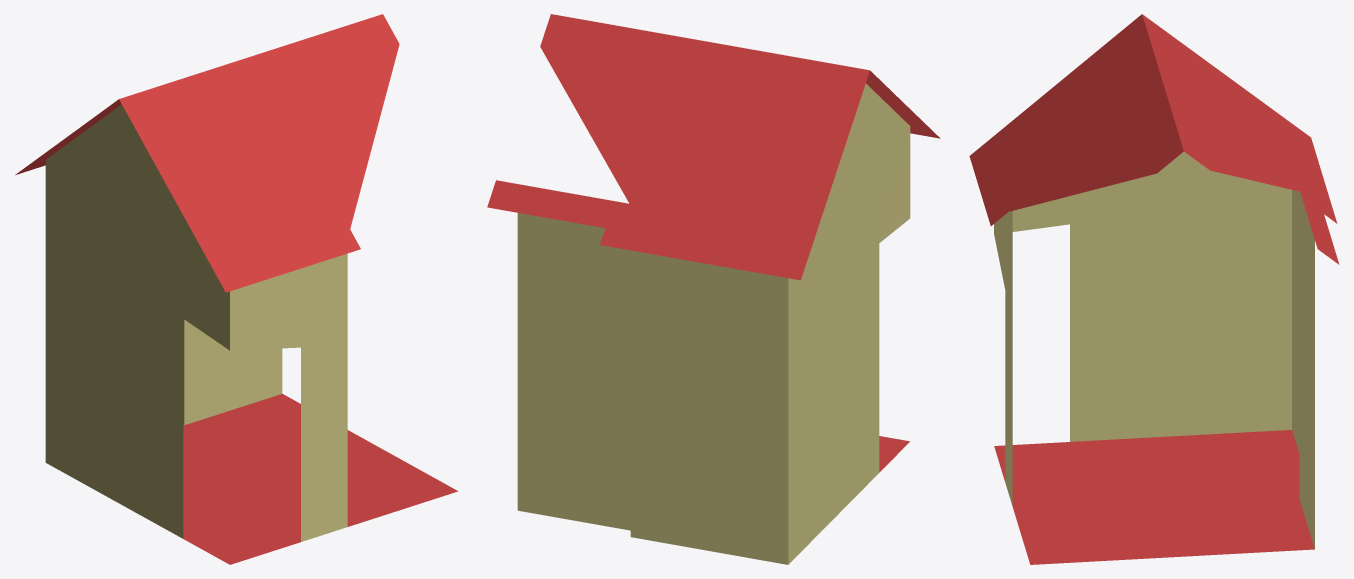
3 views of the same model, side by side, from view 1: azimuth 30°, elevation 25°; view 2: azimuth 150°, elevation 25°; view 3: azimuth 270°, elevation 25° (orthographic). The views are drawn at different scales.
Size of the model in its own units: 11.91 by 12.58 by 15.55.
